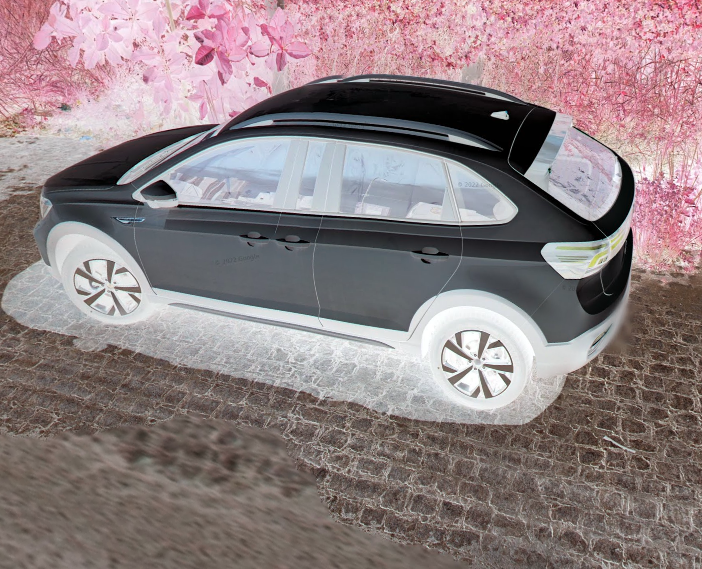car: (31, 69, 641, 416)
